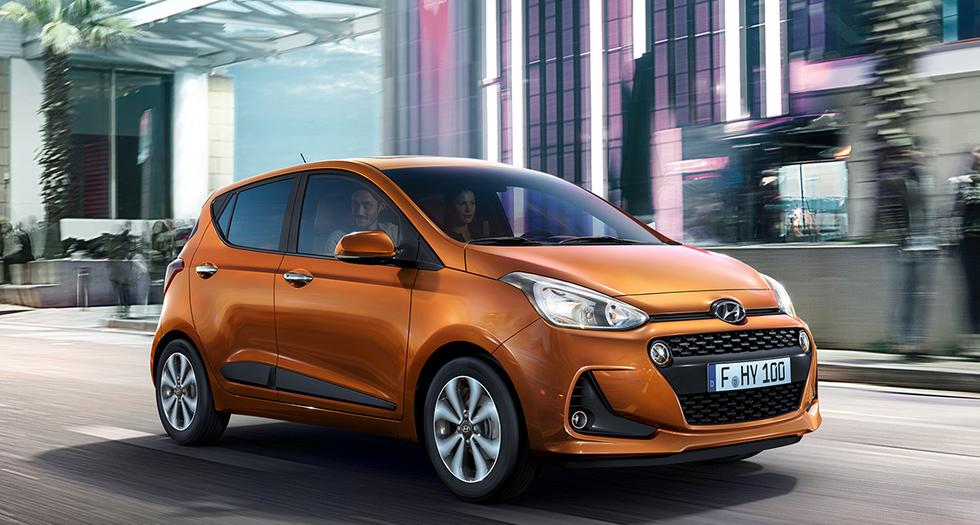Carro: (147, 145, 840, 497)
